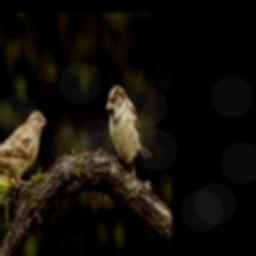Sparrow: (105, 84, 152, 179), (0, 107, 46, 183)
